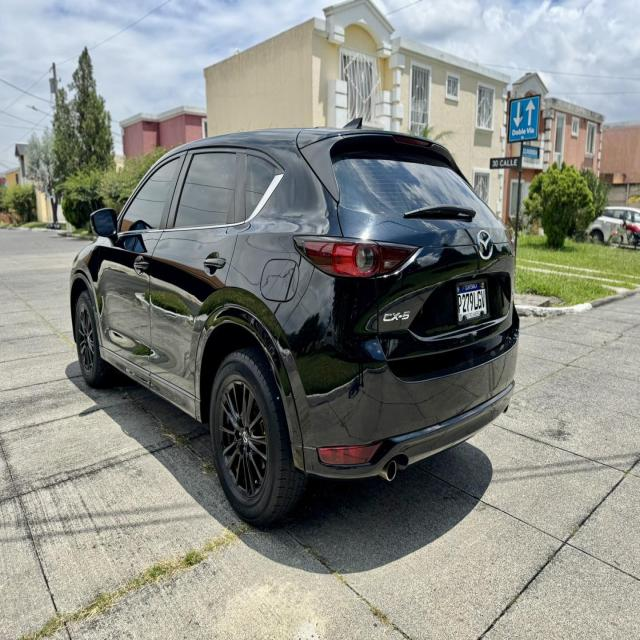Placas: (451, 278, 496, 322)
